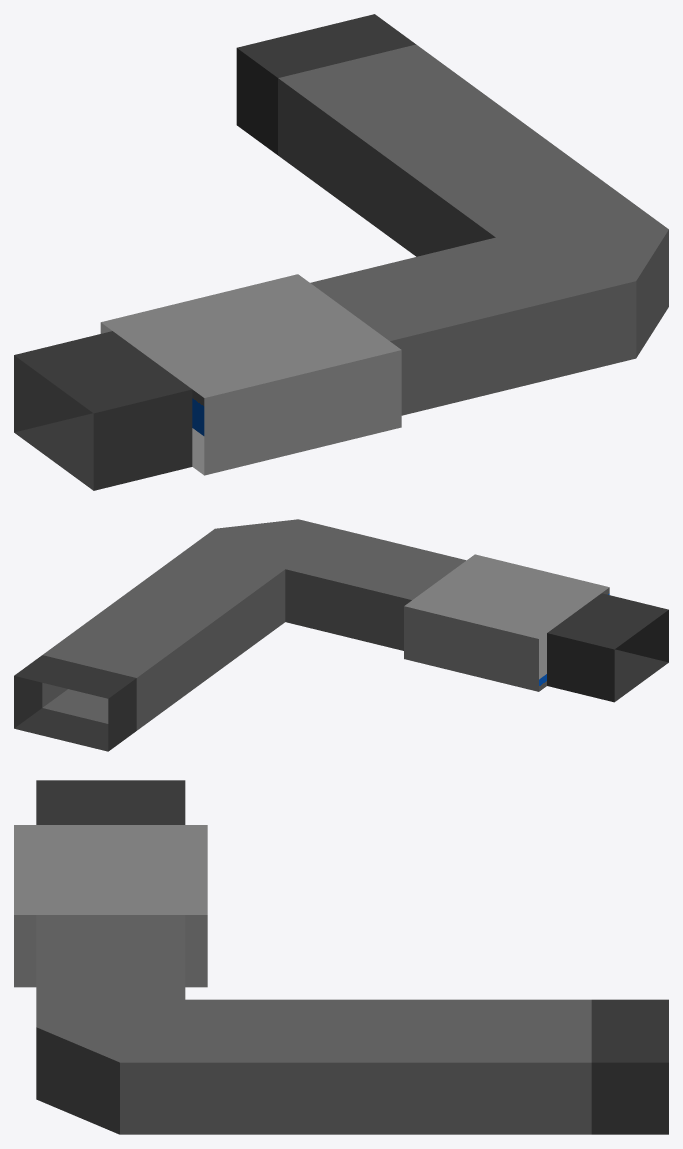
The model's file is OwenToTube.fbx.
The picture shows the model from 3 angles, top to bottom: view 1: azimuth 30°, elevation 25°; view 2: azimuth 150°, elevation 25°; view 3: azimuth 270°, elevation 25°; orthographic projection. The views are drawn at different scales.
Visible parts, largest first — view 1: ROwnSegment; view 2: ROwnSegment; view 3: ROwnSegment.
Part boxes in pixels (<box>): ROwnSegment: <box>14,14,668,490</box>; ROwnSegment: <box>14,519,668,751</box>; ROwnSegment: <box>14,780,668,1134</box>.
Bounding box in the file's own units: 126 × 15 × 123.
